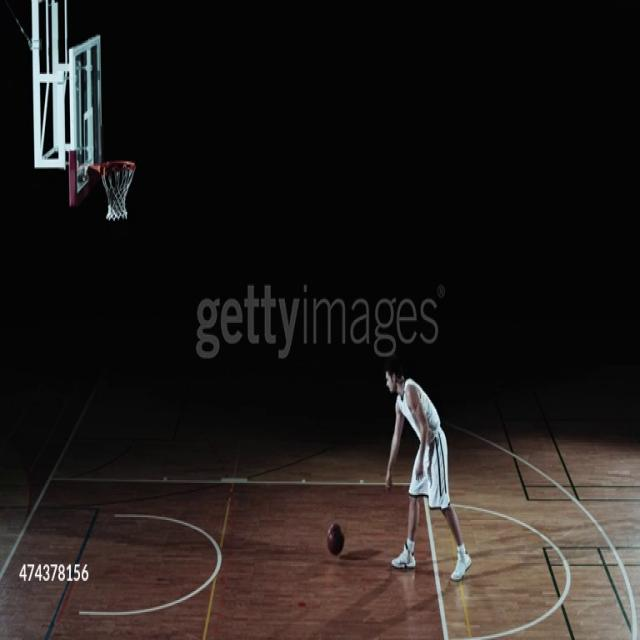ball: (326, 522, 346, 556)
